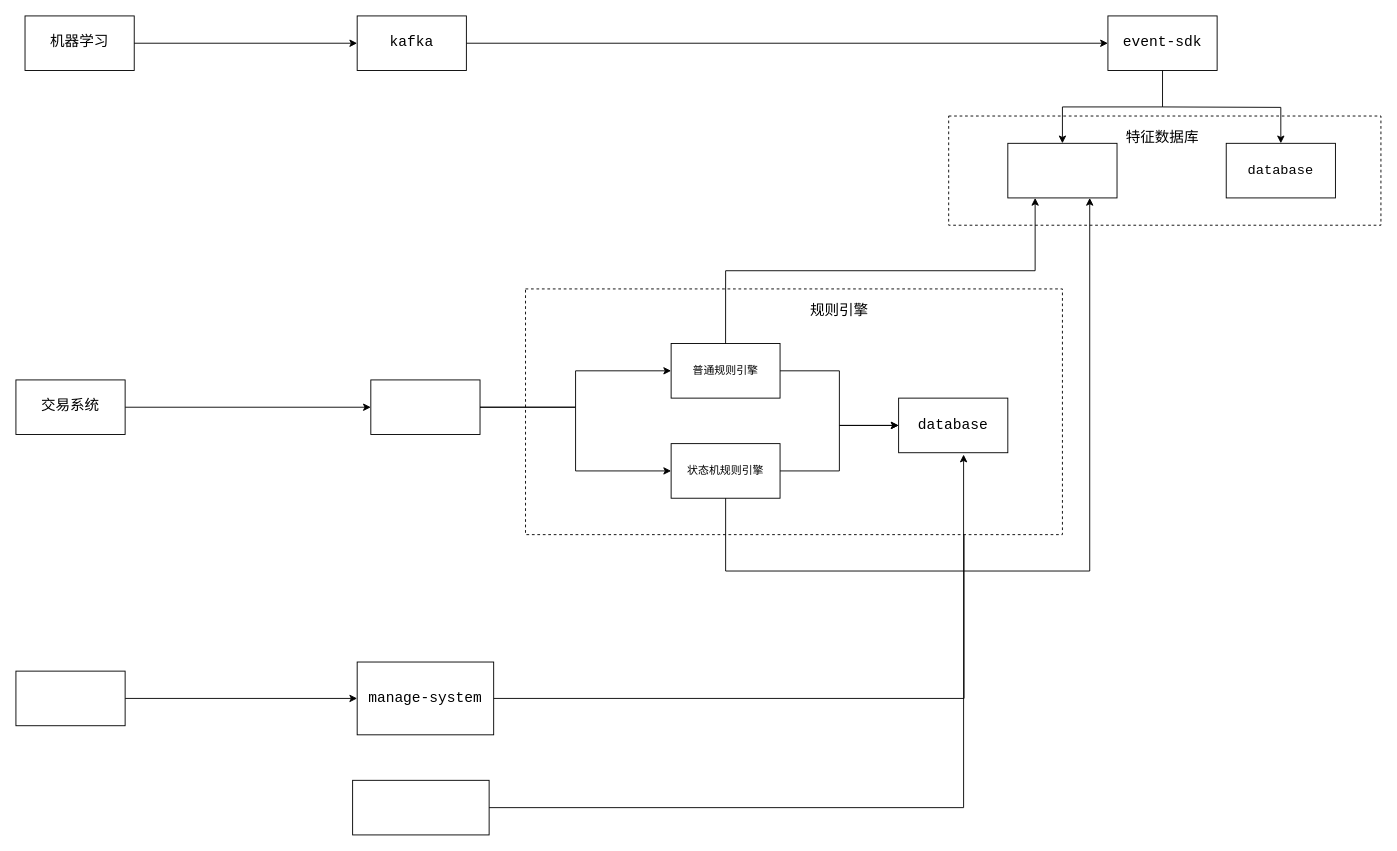
The diagram is 1397 pixels wide and 851 high, and some of its shapes have lost their labels. The box of each missing label's shape, as (x1, y1, x2, y2) in pixels:
front-api: (370, 379, 480, 435)
reds: (1007, 142, 1117, 198)
static-task: (352, 779, 489, 835)
管理员: (15, 670, 125, 726)
